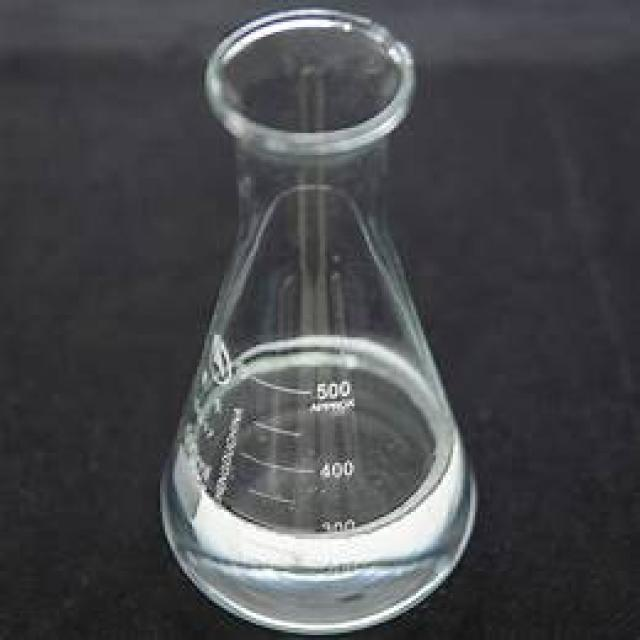Titrarion: (147, 12, 479, 629)
